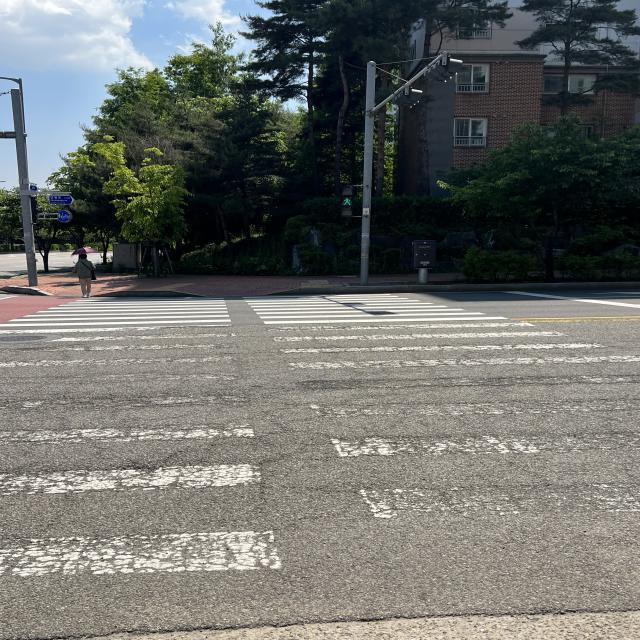crosswalk: (1, 281, 640, 640)
green-light: (338, 188, 359, 222)
